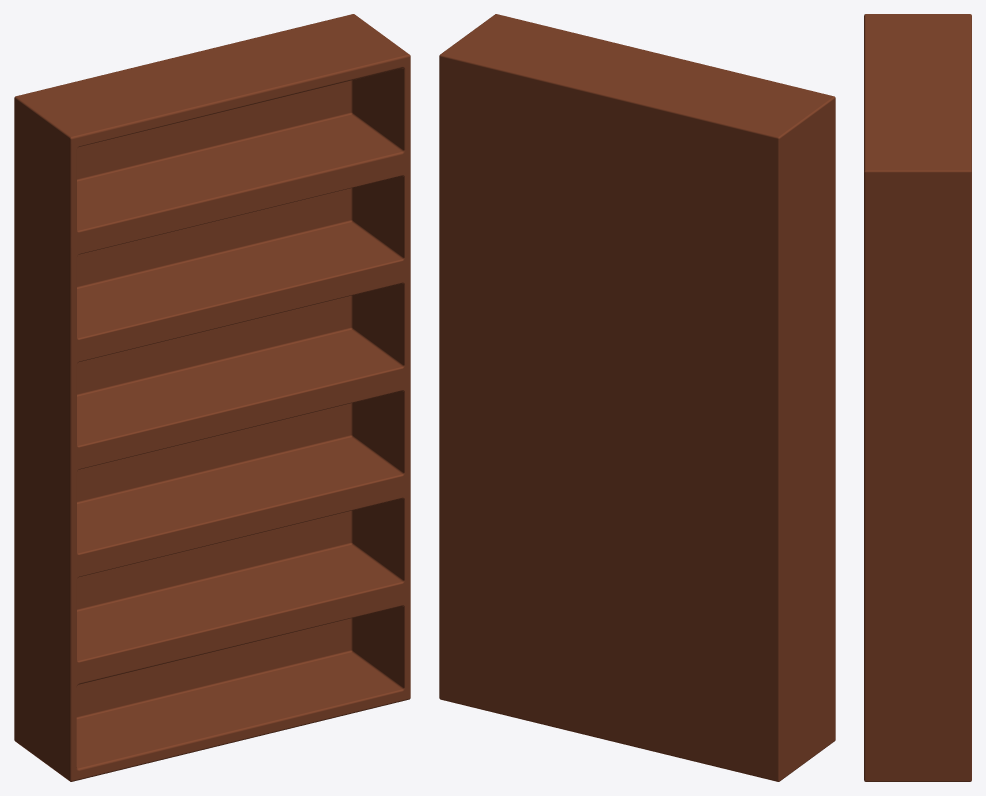
Rendered from Libreria.fbx.
3 views of the same model, side by side, from view 1: azimuth 30°, elevation 25°; view 2: azimuth 150°, elevation 25°; view 3: azimuth 270°, elevation 25° (orthographic). The views are drawn at different scales.
Visible parts, largest first — view 1: libreria; view 2: libreria; view 3: libreria.
Boxes of the visible parts, x1,y1,x2,y2 form: libreria: (14,14,410,781); libreria: (439,14,835,781); libreria: (864,14,971,781).
Size of the model in its own units: 82.88 by 150 by 24.
